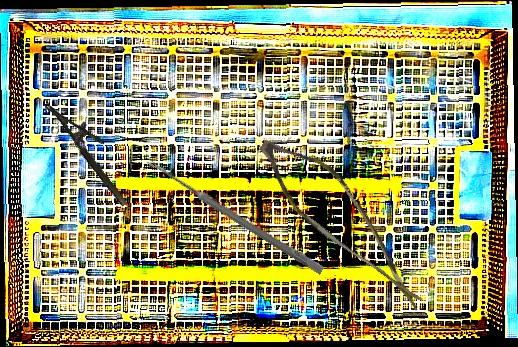Micro Scissor: (234, 127, 459, 314)
Needle Holder: (44, 90, 142, 208)
Surgical Spoon: (145, 157, 325, 275)
